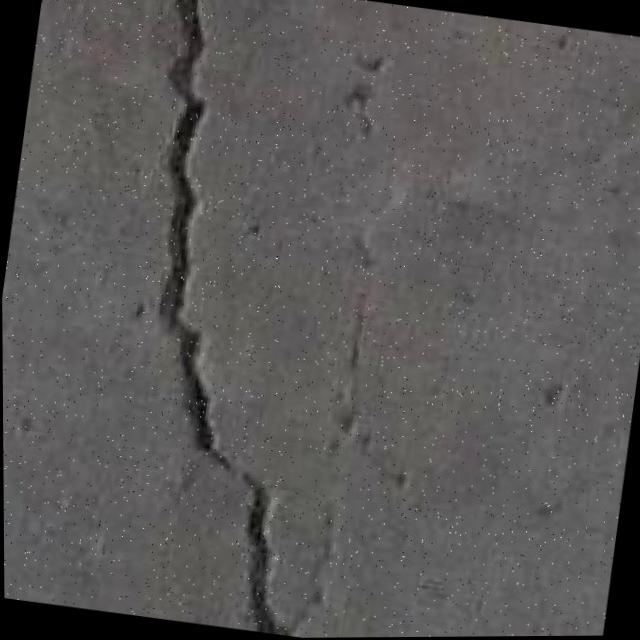Crack: (81, 0, 397, 640)
